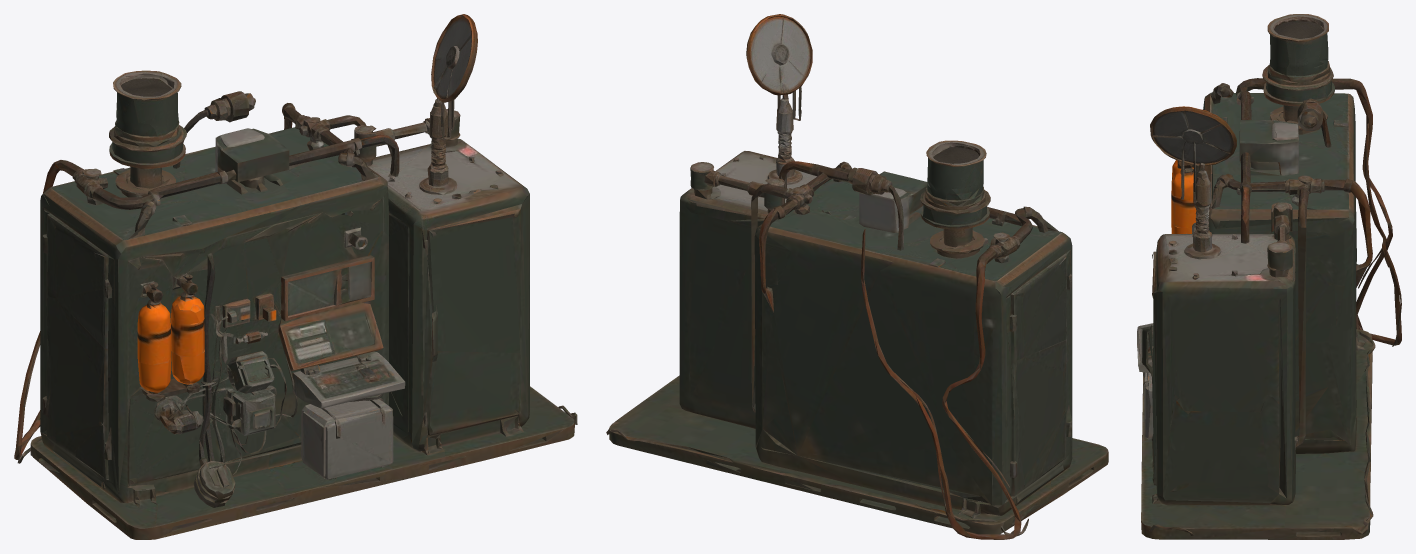
Rendered from camp-station.glb.
3 renders of one model, left to right at view 1: azimuth 30°, elevation 25°; view 2: azimuth 150°, elevation 25°; view 3: azimuth 270°, elevation 25°, orthographic. The views are drawn at different scales.
Visible parts, largest first — view 1: Mesh_0.006; view 2: Mesh_0.006; view 3: Mesh_0.006.
Boxes of the visible parts, x1,y1,x2,y2 form: Mesh_0.006: (14,14,577,539); Mesh_0.006: (606,14,1108,539); Mesh_0.006: (1137,14,1401,539).
Bounding box in the file's own units: 1.9 × 1.67 × 1.02.
Materials: 1 (1 with a texture image).
